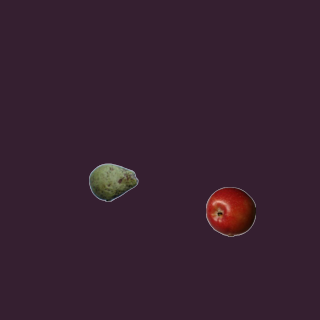Apple Braeburn: (205, 186, 255, 236)
Pear Stone: (88, 157, 138, 207)
